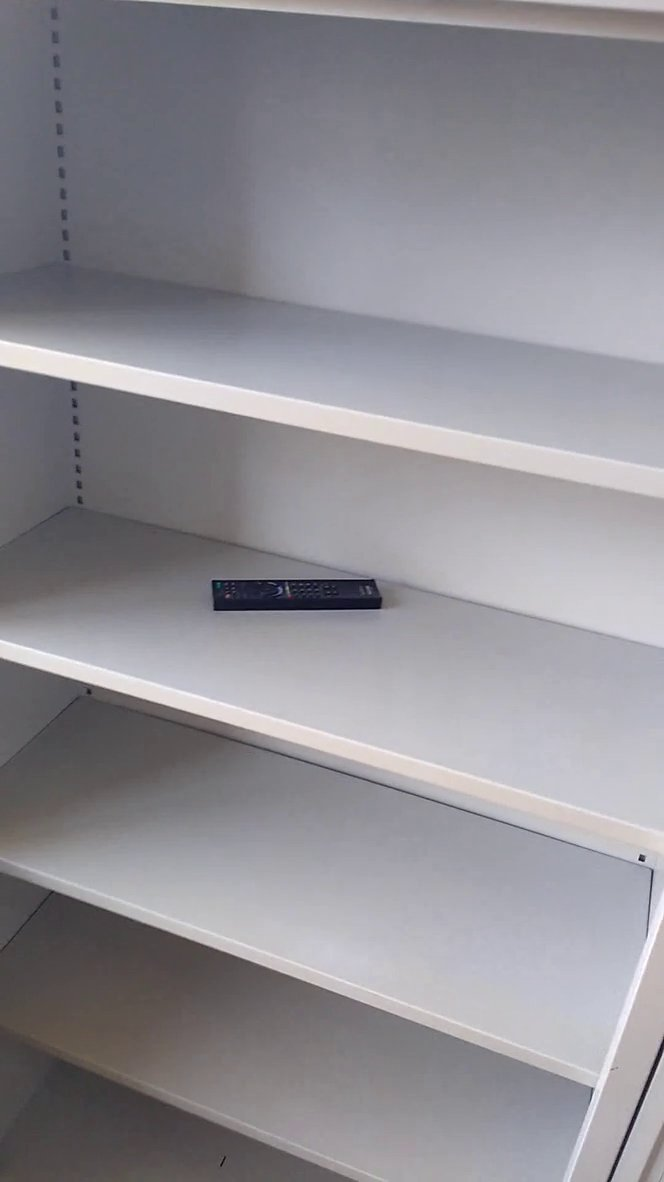remote: (201, 569, 391, 625)
